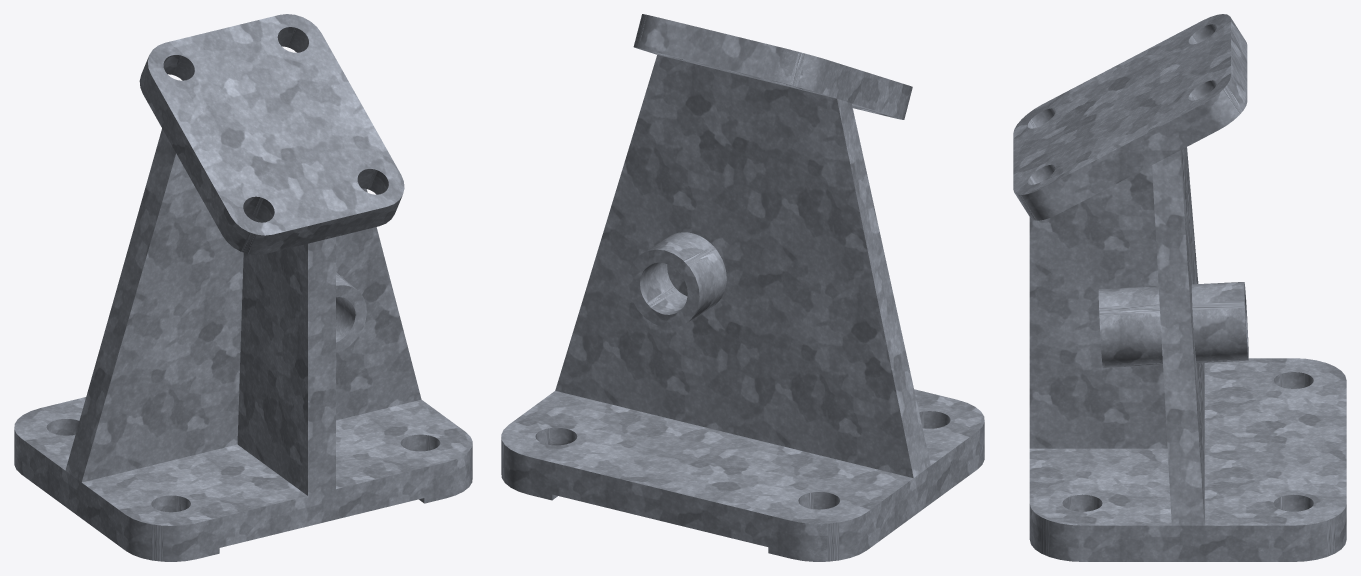
The model's file is Practice17_1.glb.
3 views of the same model, side by side, from view 1: azimuth 30°, elevation 25°; view 2: azimuth 150°, elevation 25°; view 3: azimuth 270°, elevation 25° (orthographic). The views are drawn at different scales.
Parts seen in each view (by area): view 1: Default - Part; view 2: Default - Part; view 3: Default - Part.
Boxes of the visible parts, <box> form: Default - Part: <box>14,14,472,561</box>; Default - Part: <box>501,14,984,561</box>; Default - Part: <box>1013,14,1346,561</box>.
Size of the model in its own units: 0.0953 by 0.1143 by 0.0801.
1 material, 1 textured.
